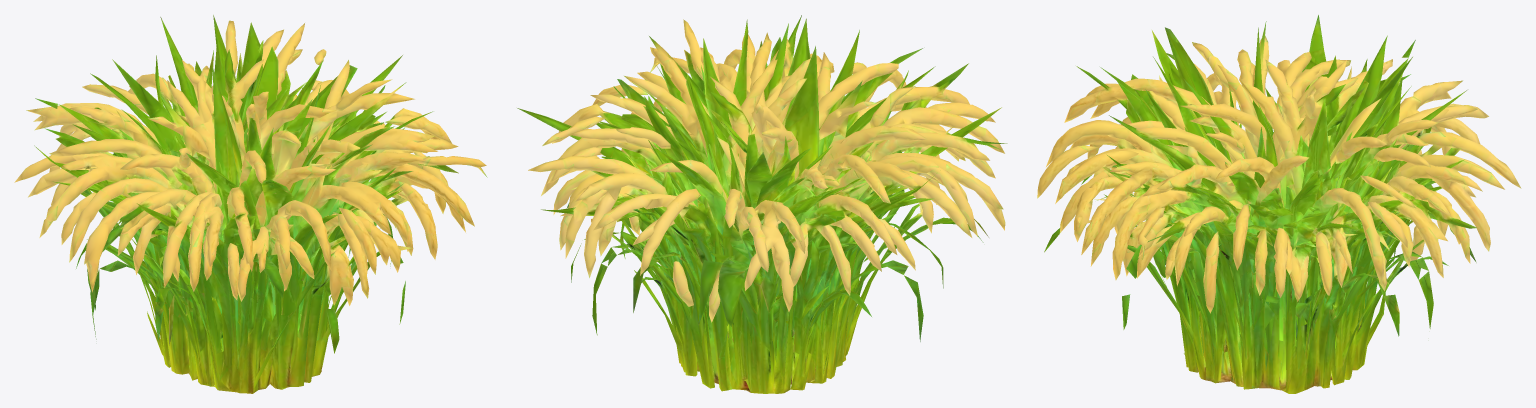
Rendered from rice-mature.glb.
The picture shows the model from 3 angles, left to right: view 1: azimuth 30°, elevation 25°; view 2: azimuth 150°, elevation 25°; view 3: azimuth 270°, elevation 25°; orthographic projection. The views are drawn at different scales.
Parts seen in each view (by area): view 1: Mesh_0; view 2: Mesh_0; view 3: Mesh_0.
Boxes of the visible parts, x1=… form: Mesh_0: x1=14, y1=15, x2=487, y2=393; Mesh_0: x1=517, y1=15, x2=1007, y2=393; Mesh_0: x1=1037, y1=15, x2=1521, y2=393.
Bounding box in the file's own units: 0.3458 × 0.25 × 0.3482.
1 material, 1 textured.
